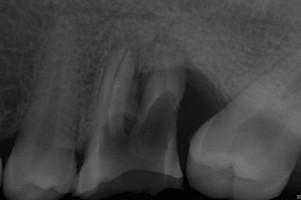Dental Caries: (106, 30, 230, 116)
